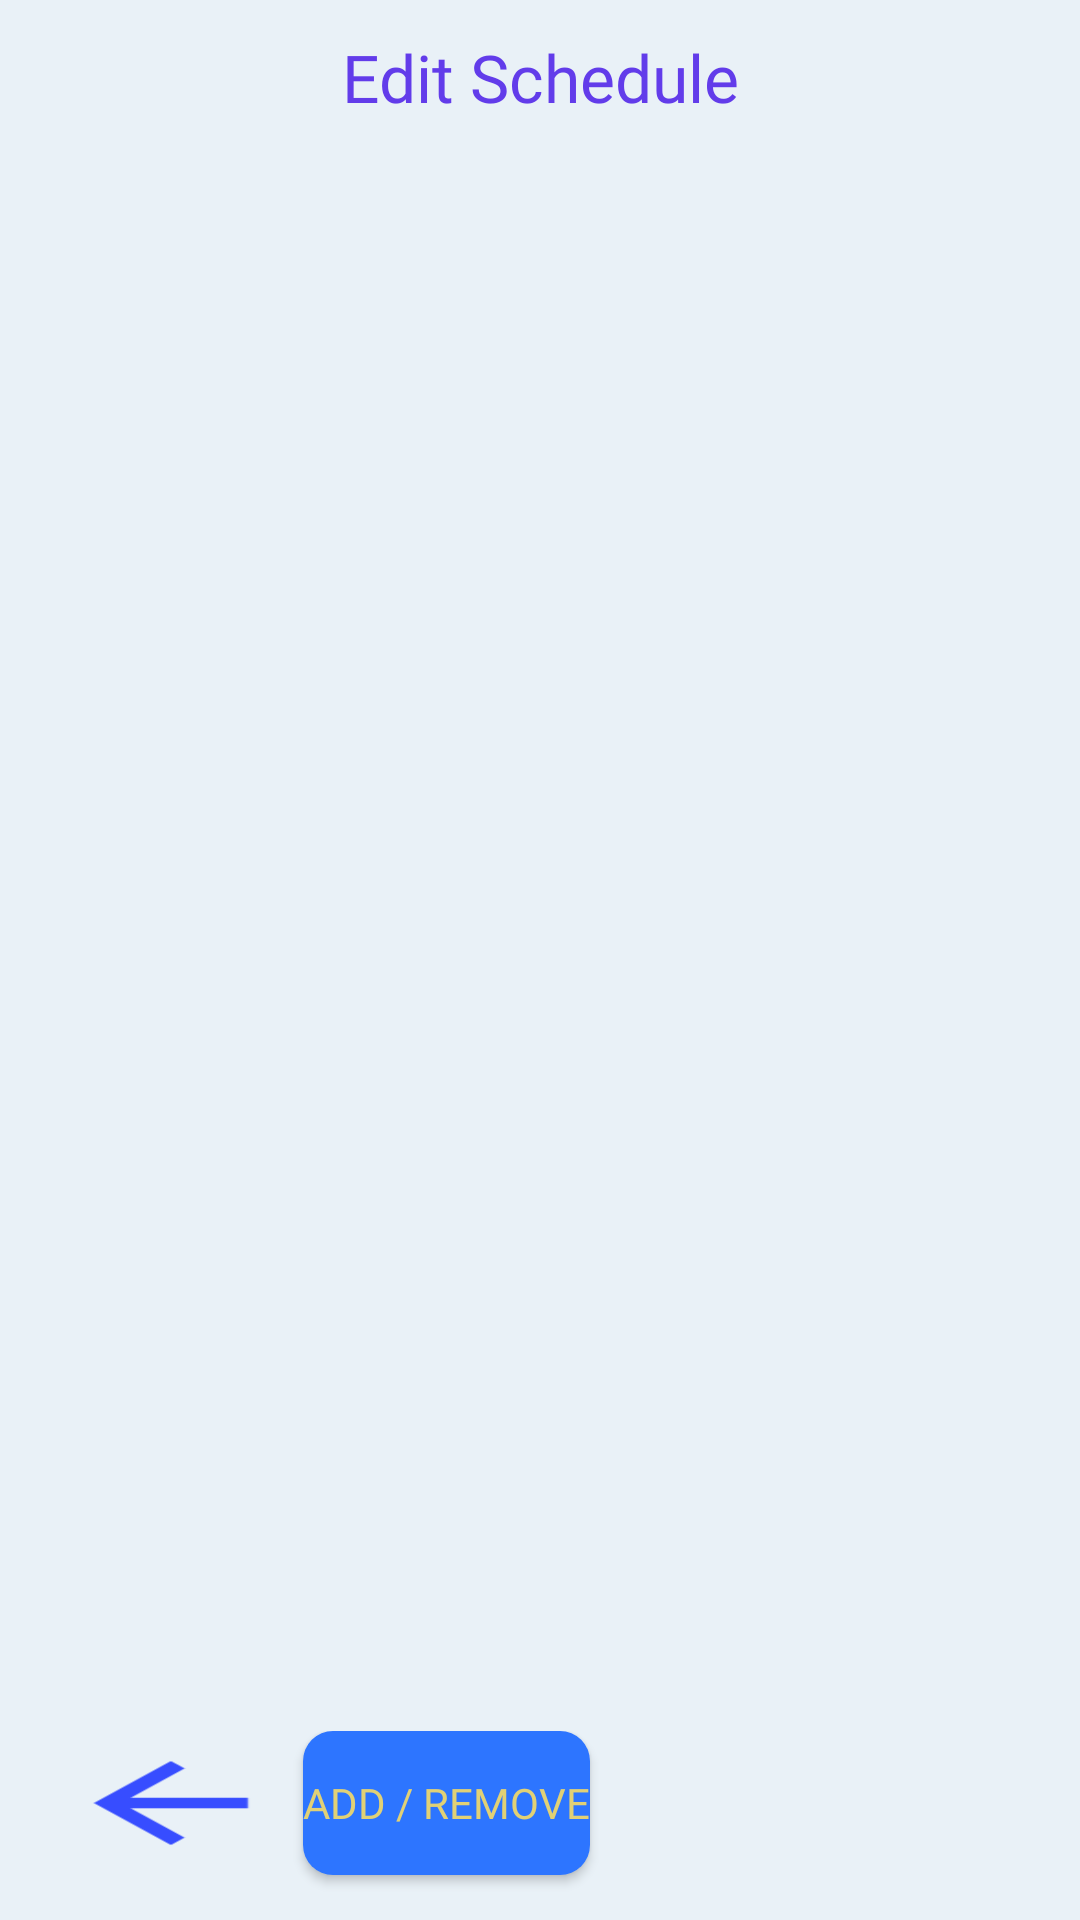

Where icons sit on this 1080×1920 app screen, as bbox=(x1, y1, x2, y2):
back: bbox=(94, 1761, 249, 1845)
